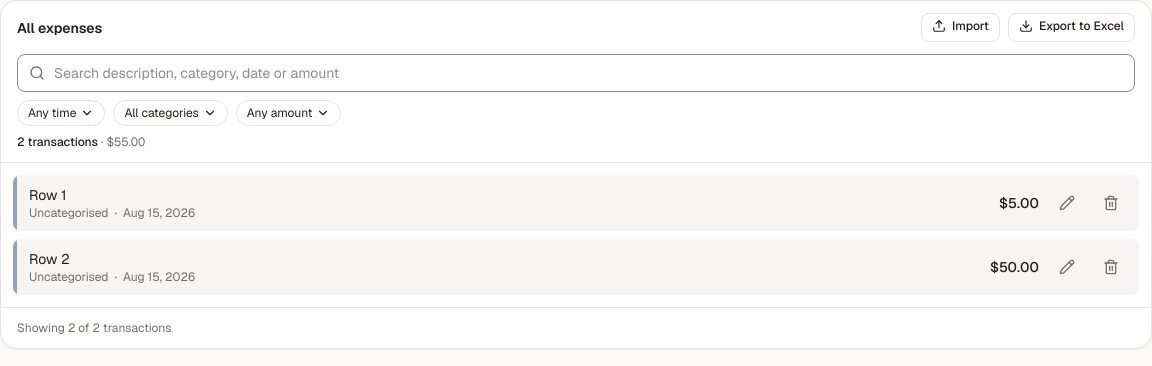
Scenario: AllExpenses › switches an amount range to a currency, since amounts only compare within one
Expected: the text "2 transactions" is shown, [17,134,98,150]
Click the button "Any amount".
click(289, 113)  # box [236,100,341,126]
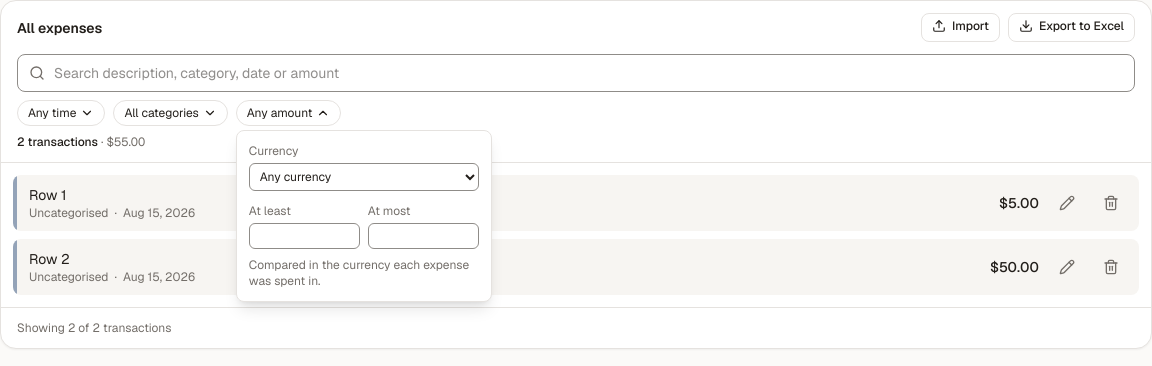
Type "10" into the field labelled "At least".
click(304, 236); type("10")  # box [249,223,360,249]
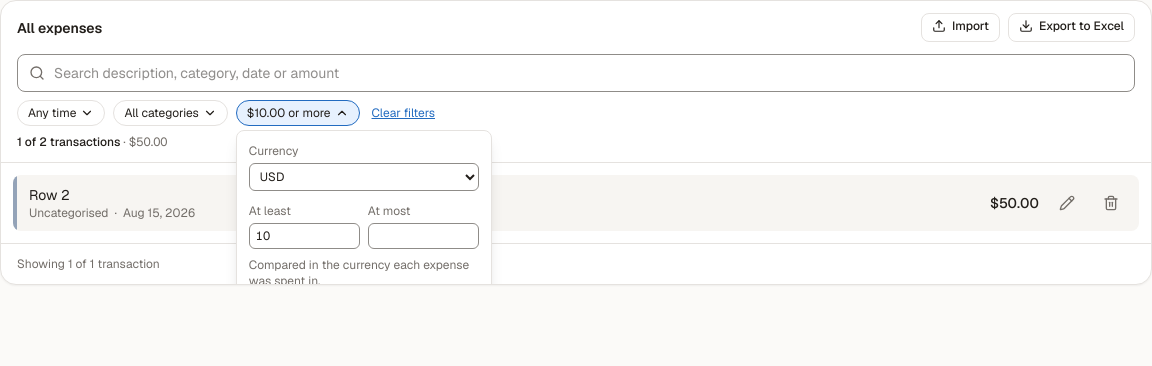
Expected: the dropdown labelled "Currency" shows "USD", [249,163,479,191]
Expected: the text "1 of 2 transactions" is shown, [17,134,120,150]
